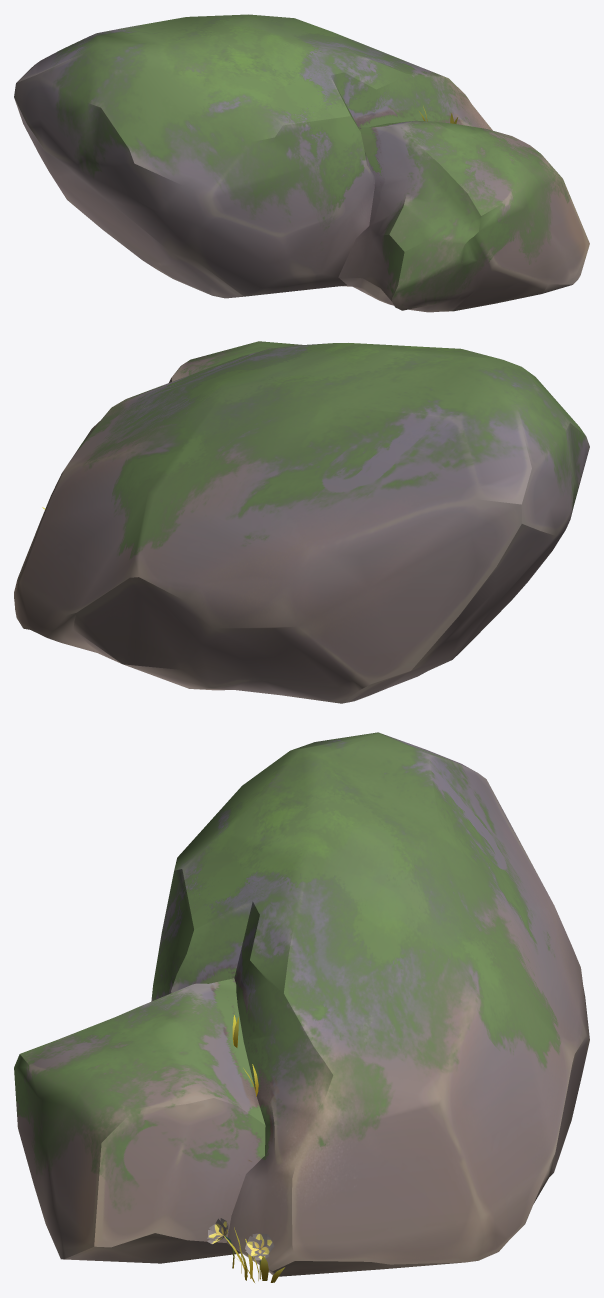
Rendered from StevenRock_LOD0.fbx.
The picture shows the model from 3 angles, top to bottom: view 1: azimuth 30°, elevation 25°; view 2: azimuth 150°, elevation 25°; view 3: azimuth 270°, elevation 25°; orthographic projection. The views are drawn at different scales.
Parts seen in each view (by area): view 1: StevenRock_LOD0; view 2: StevenRock_LOD0; view 3: StevenRock_LOD0.
Boxes of the visible parts, x1,y1,x2,y2 form: StevenRock_LOD0: (14, 14, 589, 312); StevenRock_LOD0: (14, 341, 589, 703); StevenRock_LOD0: (14, 732, 589, 1282).
Size of the model in its own units: 33.06 by 16.58 by 27.84.
